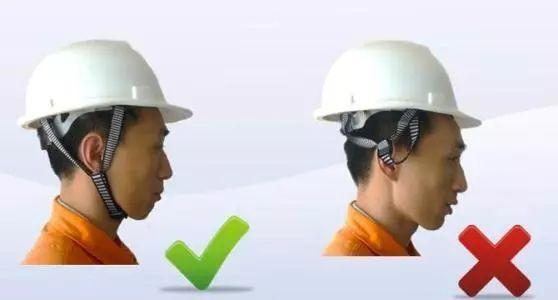helmet: (21, 41, 192, 129), (314, 41, 486, 127)
